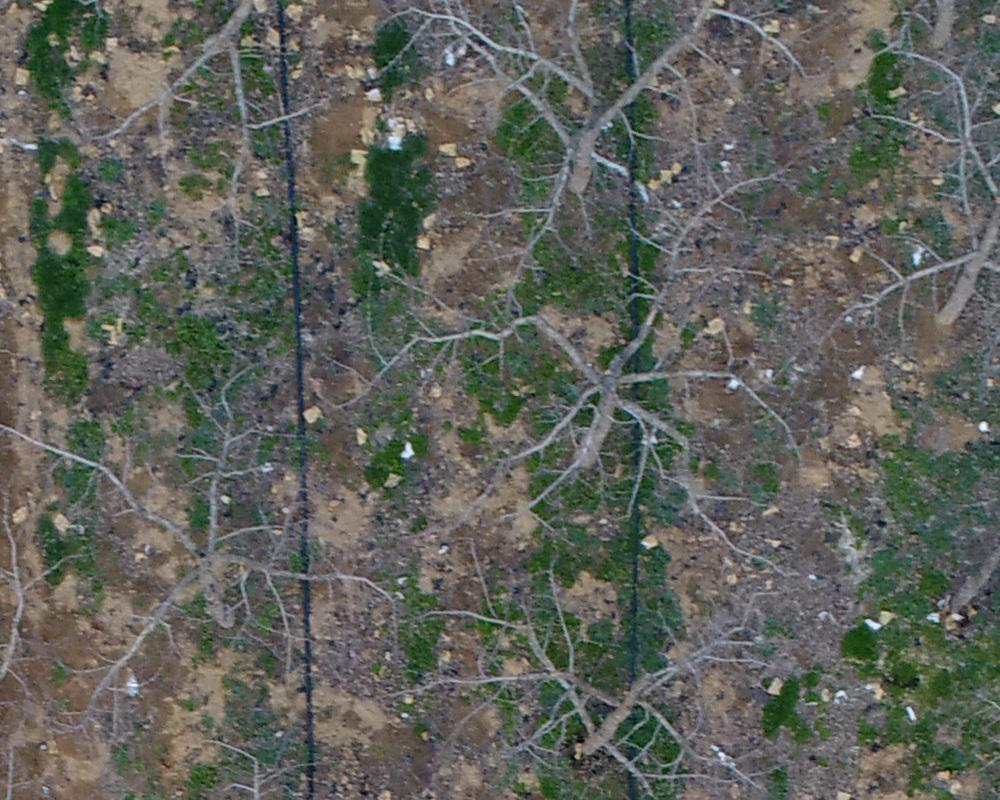apple: (382, 175, 796, 585), (10, 369, 393, 693), (427, 552, 795, 790), (825, 32, 990, 372)
